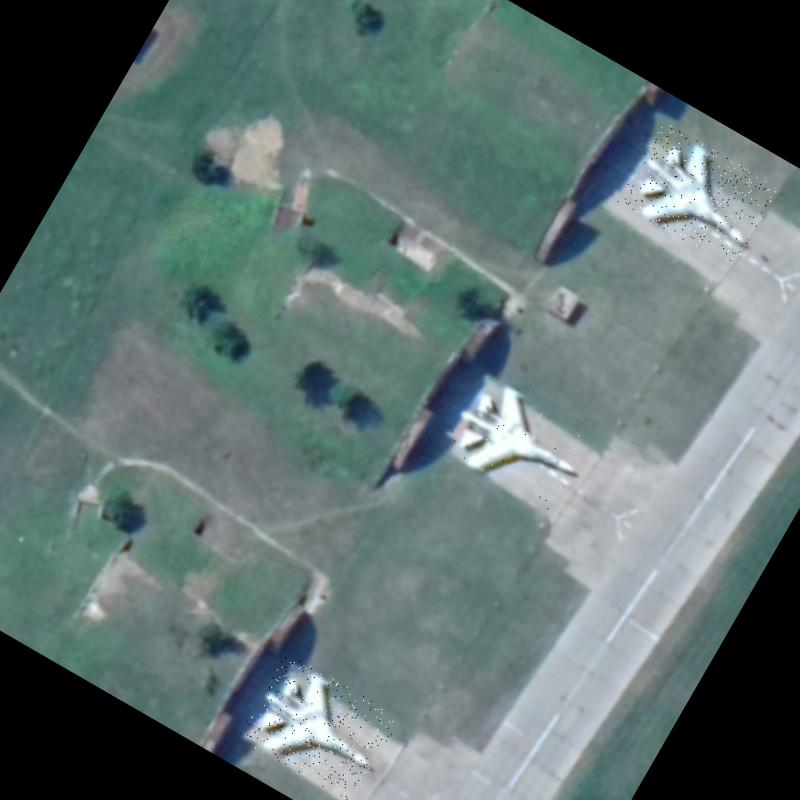A1: (435, 367, 599, 516), (237, 652, 401, 800), (617, 121, 779, 268)
